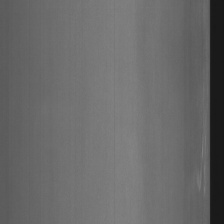silk_spot: (195, 8, 209, 202)
